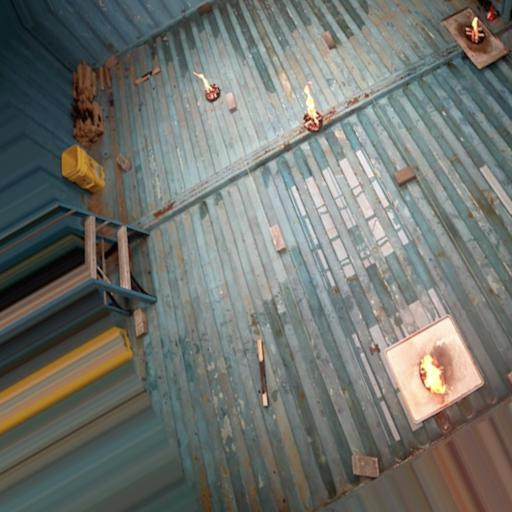Fire: (418, 354, 449, 395), (303, 84, 319, 120), (192, 72, 212, 92), (471, 14, 479, 30)
